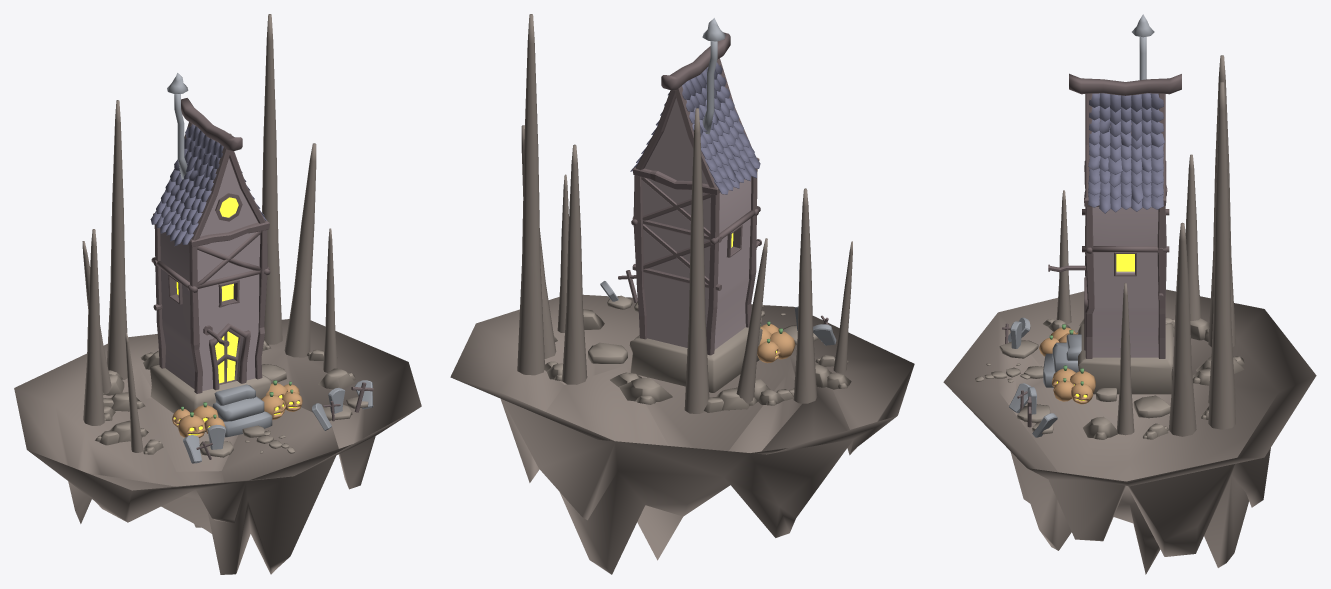
The model's file is hauntedhouse.glb.
The picture shows the model from 3 angles, left to right: view 1: azimuth 30°, elevation 25°; view 2: azimuth 150°, elevation 25°; view 3: azimuth 270°, elevation 25°; orthographic projection. The views are drawn at different scales.
Parts seen in each view (by area): view 1: Object_3, Object_14, Object_15, Object_7, Object_12, Object_11, Object_6, Object_8, Object_5, Object_4; view 2: Object_3, Object_14, Object_7, Object_15, Object_12, Object_11, Object_4, Object_8, Object_6; view 3: Object_3, Object_14, Object_11, Object_7, Object_12, Object_15, Object_6, Object_8, Object_4.
Boxes of the visible parts, x1=… form: Object_3: x1=14, y1=319, x2=421, y2=574; Object_14: x1=82, y1=14, x2=337, y2=452; Object_15: x1=151, y1=98, x2=373, y2=459; Object_7: x1=160, y1=158, x2=260, y2=391; Object_12: x1=95, y1=340, x2=368, y2=457; Object_11: x1=150, y1=124, x2=266, y2=245; Object_6: x1=183, y1=380, x2=373, y2=463; Object_8: x1=172, y1=383, x2=302, y2=438; Object_5: x1=176, y1=197, x2=238, y2=383; Object_4: x1=167, y1=73, x2=188, y2=179; Object_3: x1=450, y1=294, x2=914, y2=574; Object_14: x1=517, y1=14, x2=852, y2=413; Object_7: x1=642, y1=98, x2=751, y2=349; Object_15: x1=618, y1=32, x2=828, y2=355; Object_12: x1=544, y1=295, x2=851, y2=412; Object_11: x1=630, y1=62, x2=760, y2=194; Object_4: x1=702, y1=18, x2=725, y2=134; Object_8: x1=757, y1=324, x2=795, y2=363; Object_6: x1=600, y1=281, x2=836, y2=345; Object_3: x1=943, y1=289, x2=1316, y2=574; Object_14: x1=1056, y1=55, x2=1235, y2=436; Object_11: x1=1088, y1=93, x2=1164, y2=213; Object_7: x1=1092, y1=119, x2=1158, y2=357; Object_12: x1=975, y1=317, x2=1244, y2=439; Object_15: x1=1002, y1=73, x2=1181, y2=427; Object_6: x1=1008, y1=317, x2=1081, y2=437; Object_8: x1=1039, y1=327, x2=1095, y2=404; Object_4: x1=1132, y1=14, x2=1154, y2=80.
Bounding box in the file's own units: 5.58 × 7.07 × 4.47.
